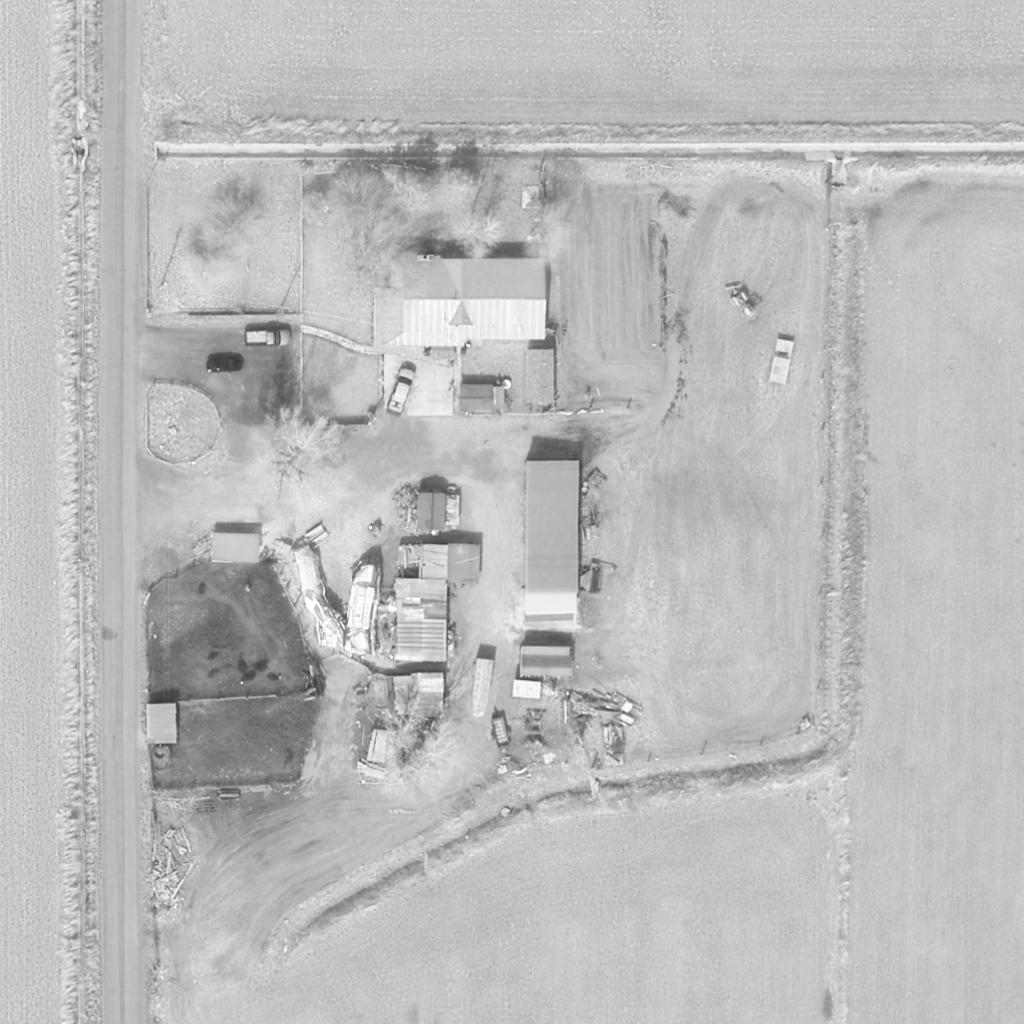vehicle: (386, 366, 416, 418), (730, 290, 758, 322), (246, 329, 292, 347), (207, 356, 243, 374)
